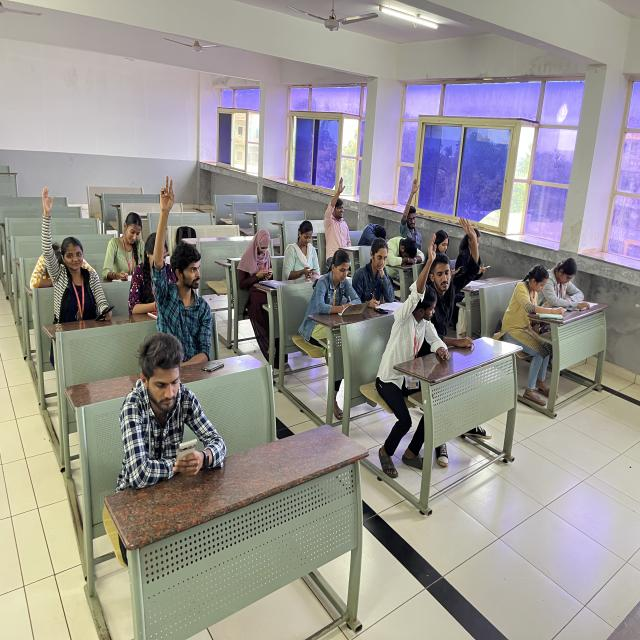Hand Rising: (148, 169, 217, 348), (34, 180, 106, 308), (429, 200, 478, 335), (408, 233, 442, 371), (320, 167, 354, 247), (396, 170, 428, 240)
Reading: (507, 250, 562, 367), (98, 203, 145, 289), (545, 252, 600, 308)
Sleeping: (26, 235, 67, 295), (352, 200, 390, 248)
Using Phone: (128, 334, 204, 496), (233, 218, 284, 294), (279, 217, 322, 286), (470, 214, 494, 278)
Writing: (314, 243, 369, 324), (355, 232, 404, 315)
